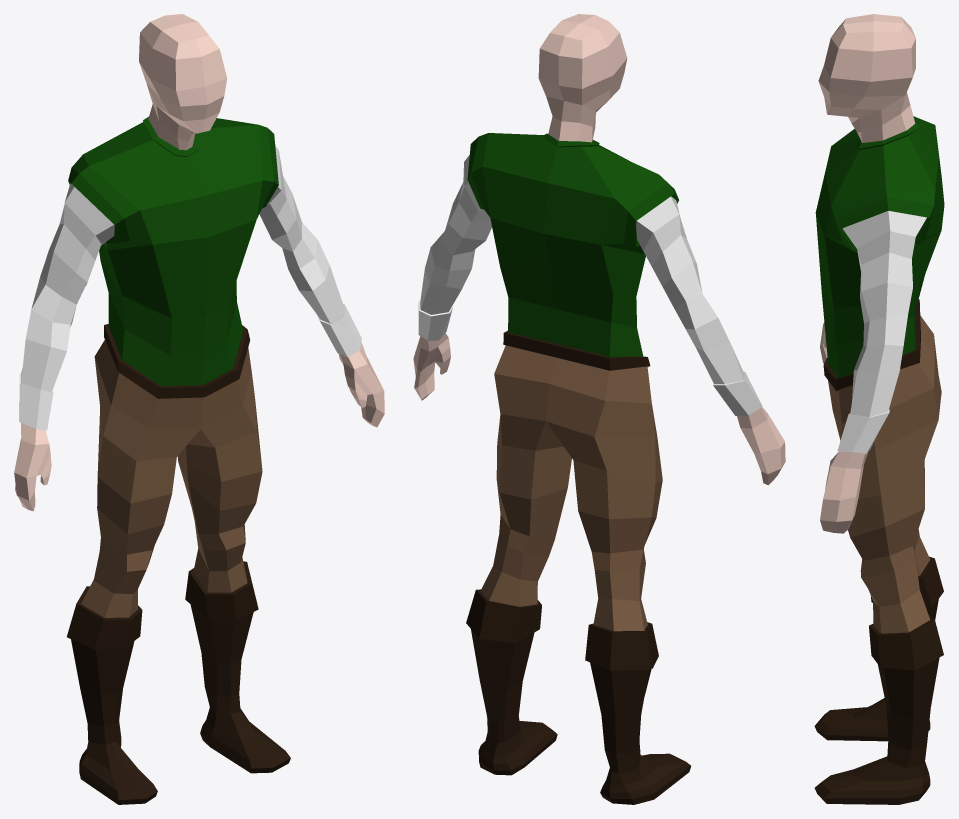
Rendered from Humano_Roupa.fbx.
3 views of the same model, side by side, from view 1: azimuth 30°, elevation 25°; view 2: azimuth 150°, elevation 25°; view 3: azimuth 270°, elevation 25° (orthographic).
Visible parts, largest first — view 1: Cube; view 2: Cube; view 3: Cube.
Boxes of the visible parts, x1,y1,x2,y2 form: Cube: (14, 14, 384, 804); Cube: (413, 14, 785, 804); Cube: (814, 14, 944, 804).
Size of the model in its own units: 1.7 by 3.31 by 0.5255.
